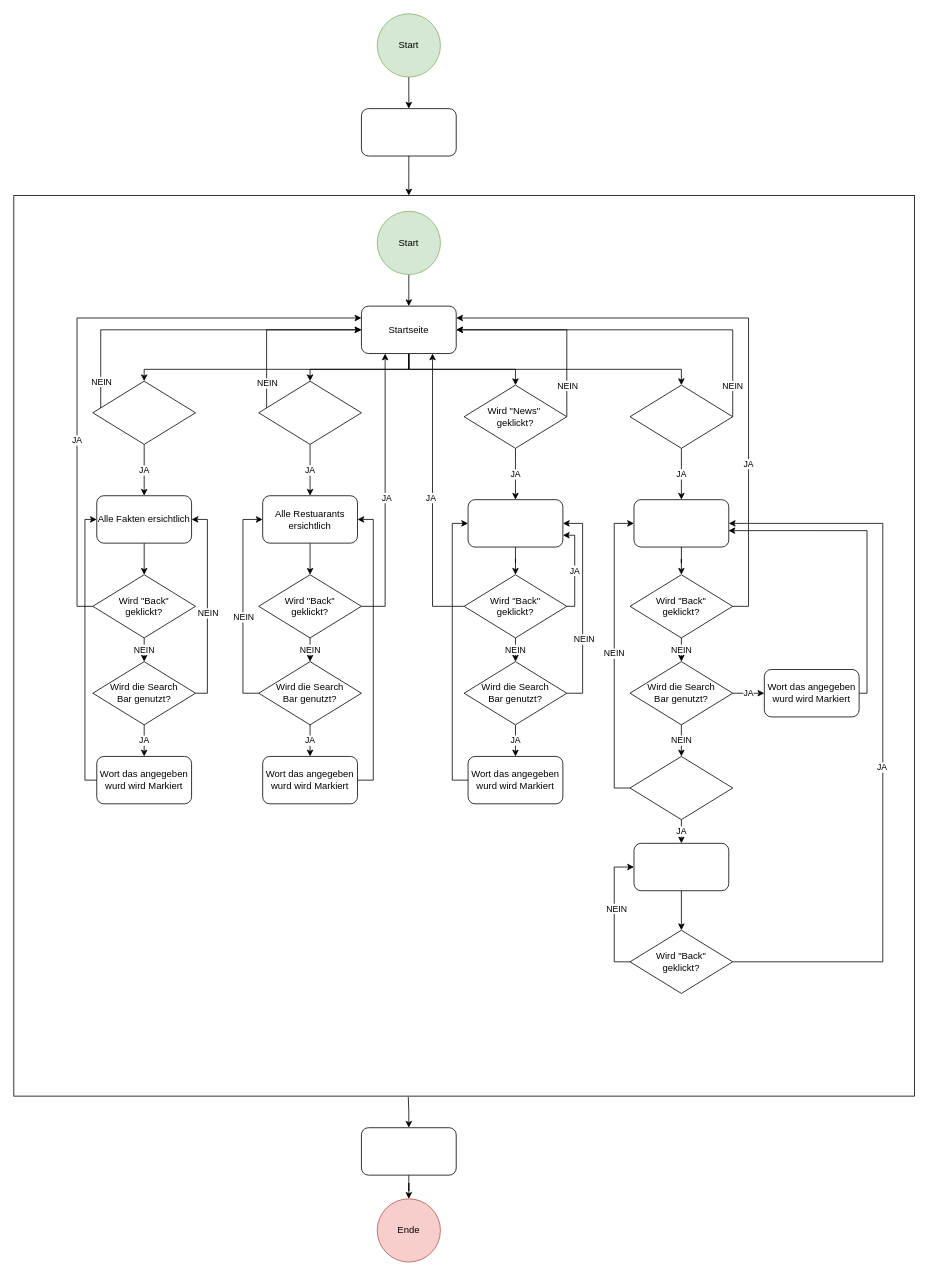
This 928x1276 diagram has some shape labels left out. Here are the shapes that lost their labels. From the top down, the box of each, then its label:
(361, 108, 456, 156): App wird eingeschalten
(92, 380, 196, 444): Wird "Fakten" geklickt?
(258, 380, 361, 444): "Restaurant Empfehlungen" geklickt?
(629, 384, 733, 448): Wird "Rezepte" geklcikt?
(467, 499, 563, 547): Alle News ersichtlich
(633, 499, 729, 547): Alle Rezepte Ersichtlich
(629, 756, 733, 820): Wird Spezifisches Rezept angeklickt?
(633, 843, 729, 891): Zutaten und Anleitung ersichtlich
(361, 1127, 456, 1175): App wird ausgeschalten
